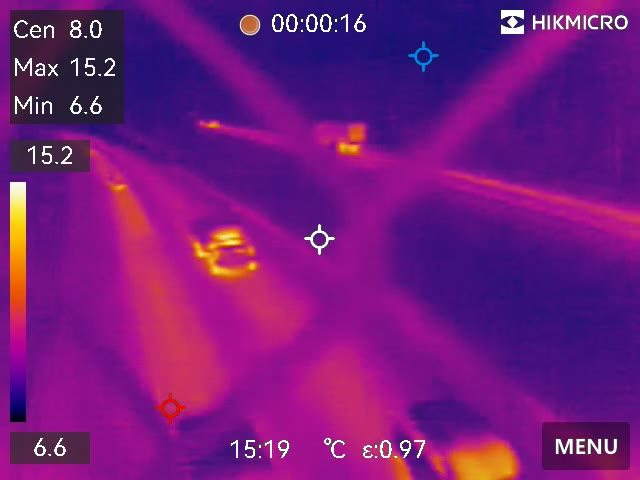heavyTruck: (313, 118, 367, 152)
vehicle: (387, 409, 526, 480), (185, 216, 264, 277)
